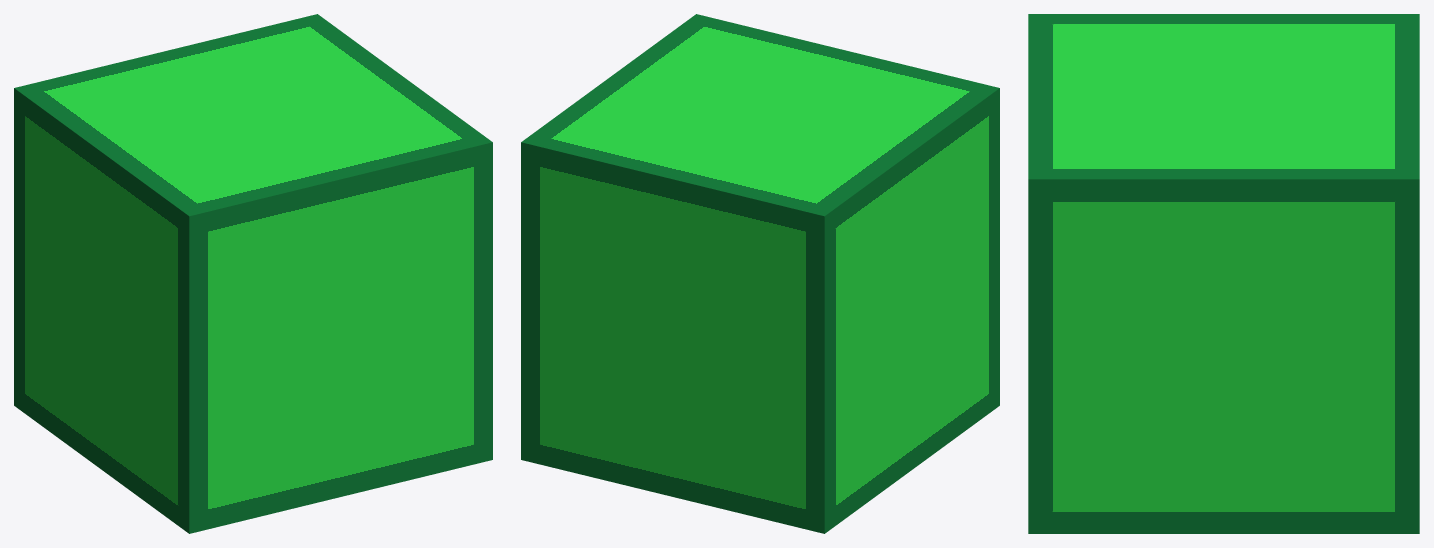
File: WalterSlimeWhite.fbx
The picture shows the model from 3 angles, left to right: view 1: azimuth 30°, elevation 25°; view 2: azimuth 150°, elevation 25°; view 3: azimuth 270°, elevation 25°; orthographic projection. The views are drawn at different scales.
Visible parts, largest first — view 1: CuboExterno; view 2: CuboExterno; view 3: CuboExterno.
Boxes of the visible parts, x1,y1,x2,y2 form: CuboExterno: (14,14,492,533); CuboExterno: (521,14,999,533); CuboExterno: (1028,14,1419,533).
Bounding box in the file's own units: 100 × 100 × 100.
Materials: 2 (2 with a texture image).
